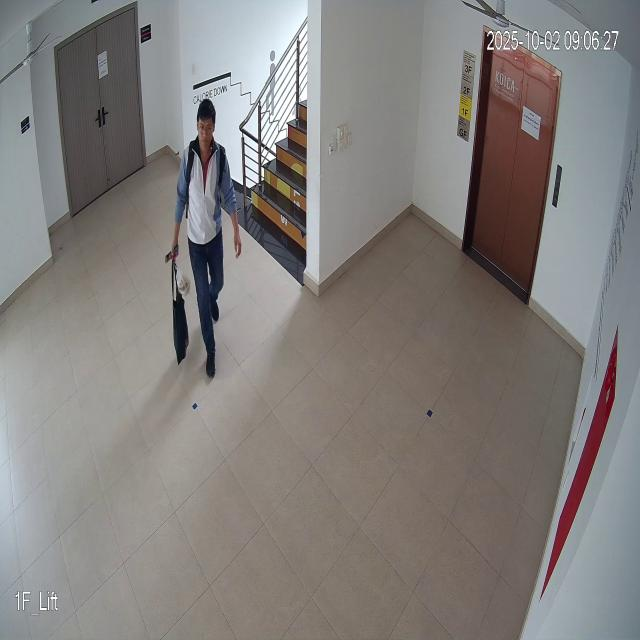face: (196, 96, 222, 154)
